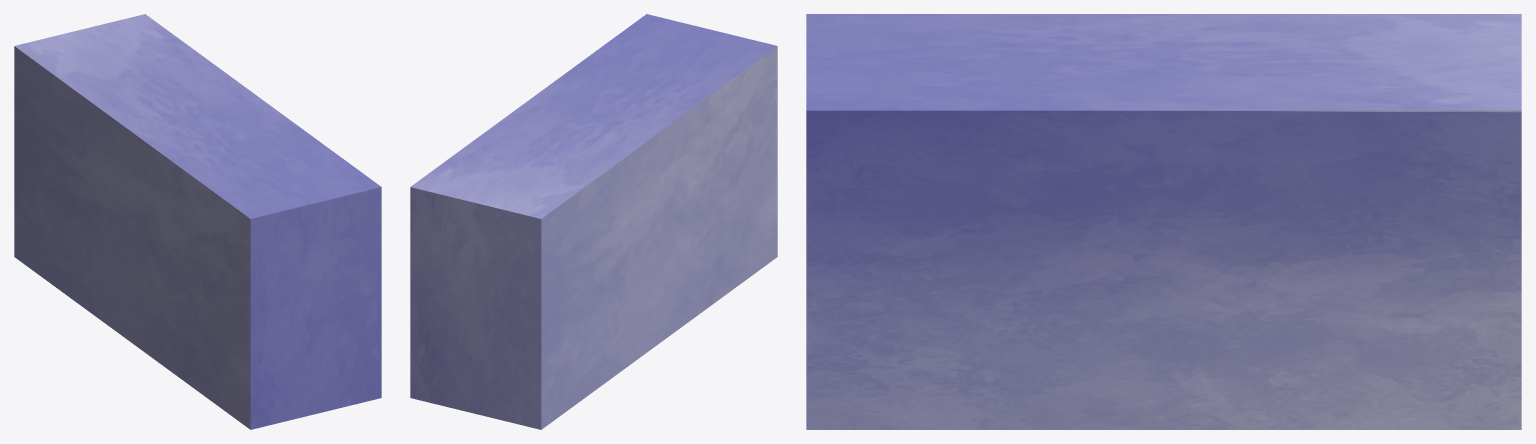
3 renders of one model, left to right at view 1: azimuth 30°, elevation 25°; view 2: azimuth 150°, elevation 25°; view 3: azimuth 270°, elevation 25°, orthographic. The views are drawn at different scales.
Visible parts, largest first — view 1: 立方體; view 2: 立方體; view 3: 立方體.
Part boxes in pixels (<box>): 立方體: <box>14,14,381,429</box>; 立方體: <box>410,14,777,429</box>; 立方體: <box>806,14,1521,429</box>.
Bounding box in the file's own units: 317 × 487 × 990.
